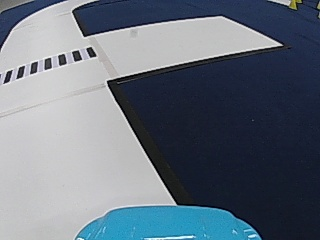CrossWalk: (3, 46, 94, 81)
